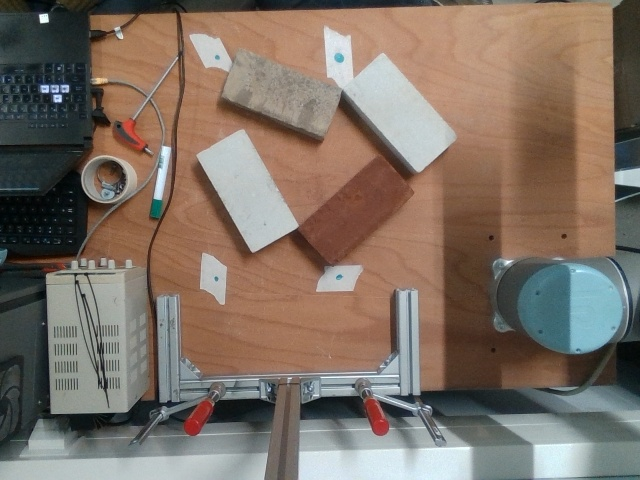brick: (342, 52, 458, 172), (196, 128, 298, 251), (299, 156, 410, 264), (219, 46, 342, 136)
